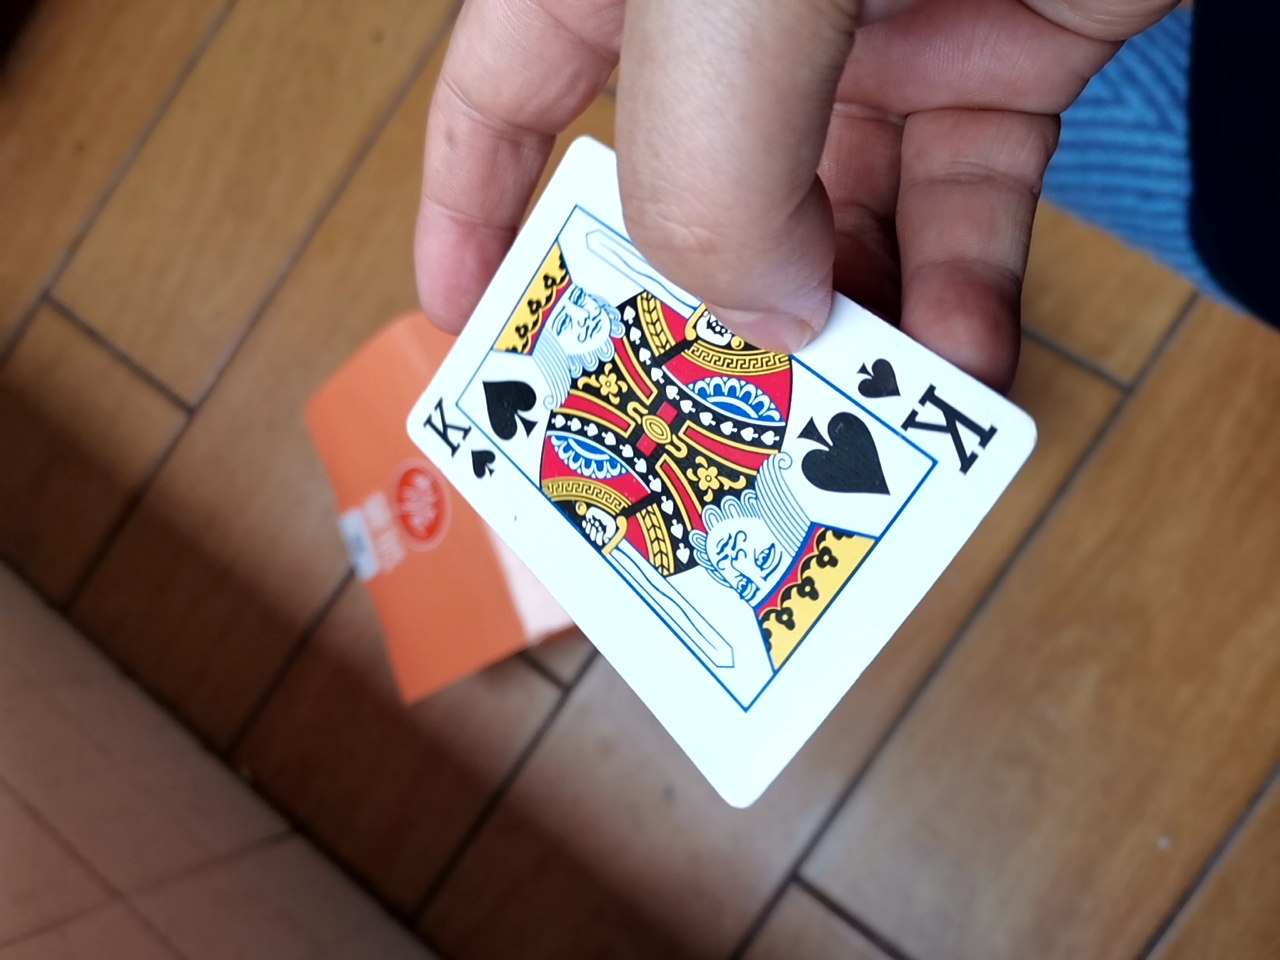ht k: (376, 106, 1030, 869)
